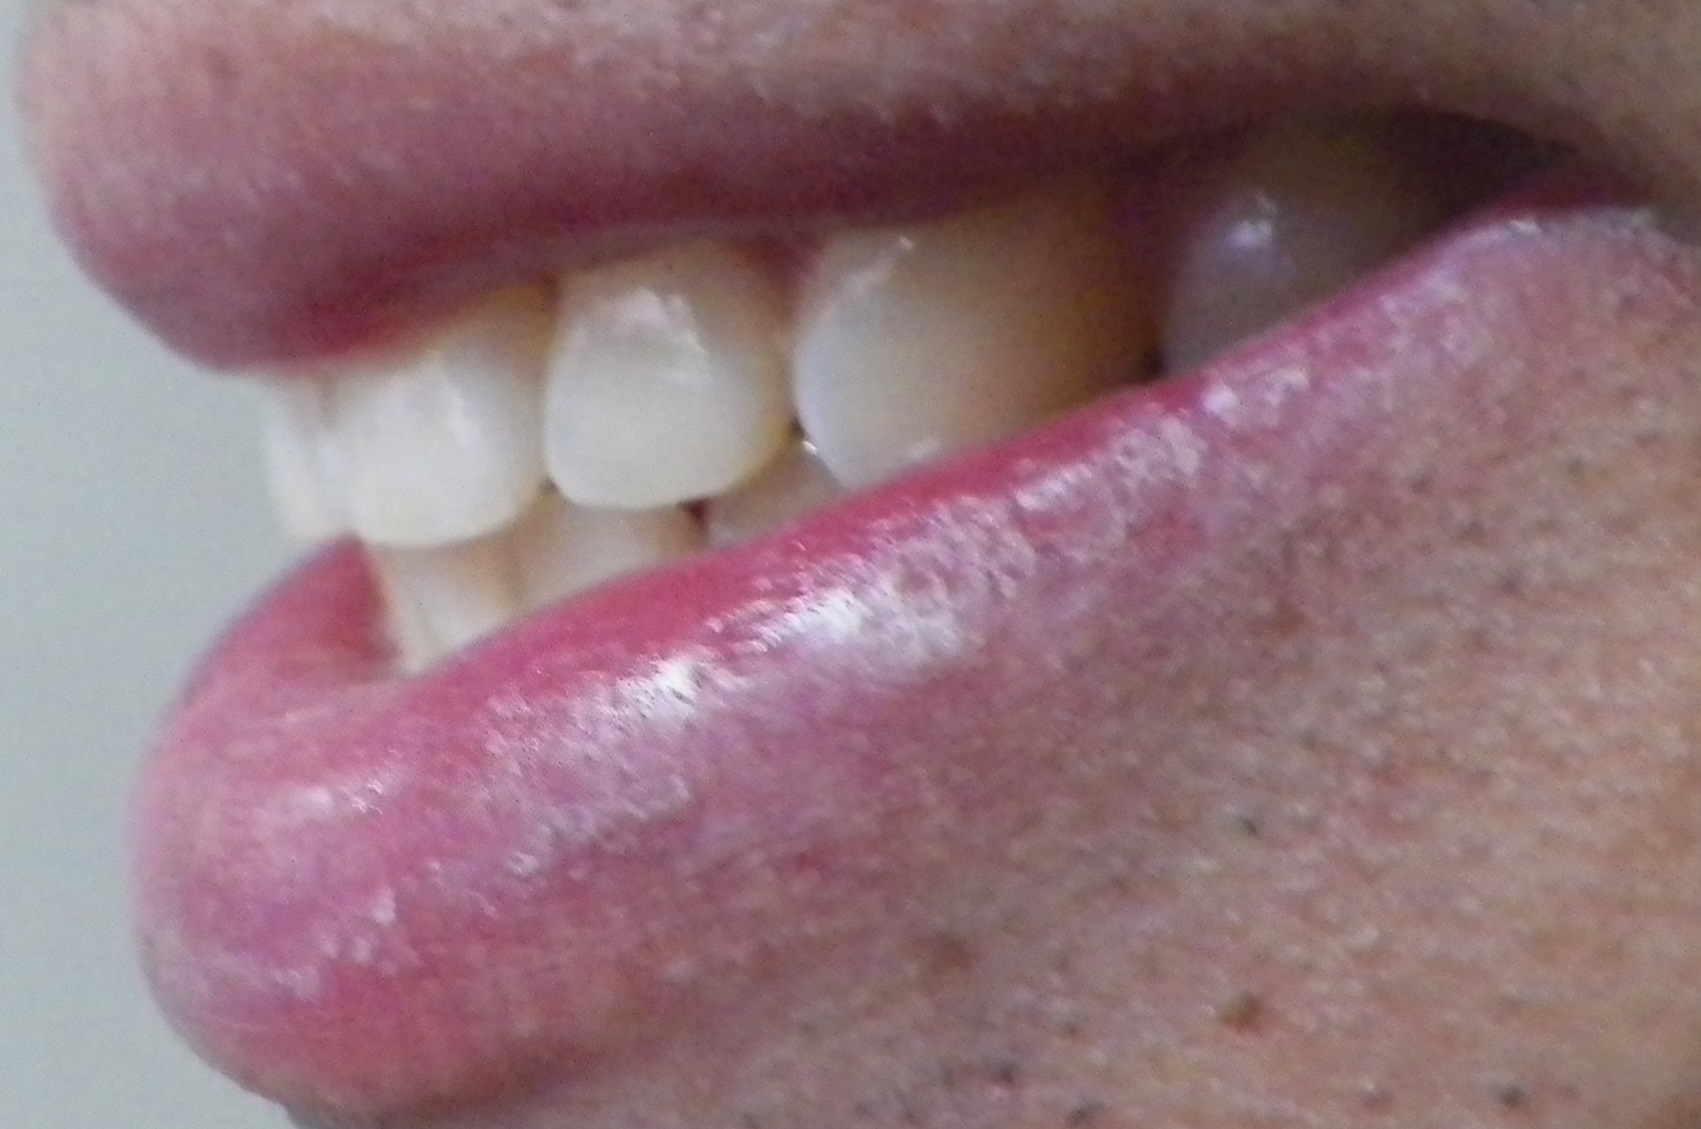boca: (260, 121, 1528, 664)
